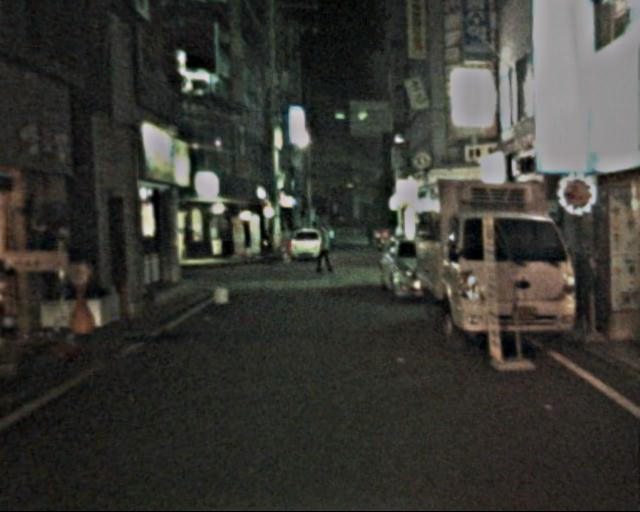person: (311, 222, 336, 279)
